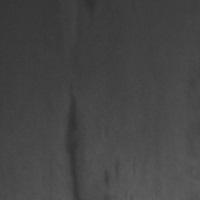inclusion: (63, 79, 93, 199), (100, 156, 125, 191), (77, 1, 98, 36)
